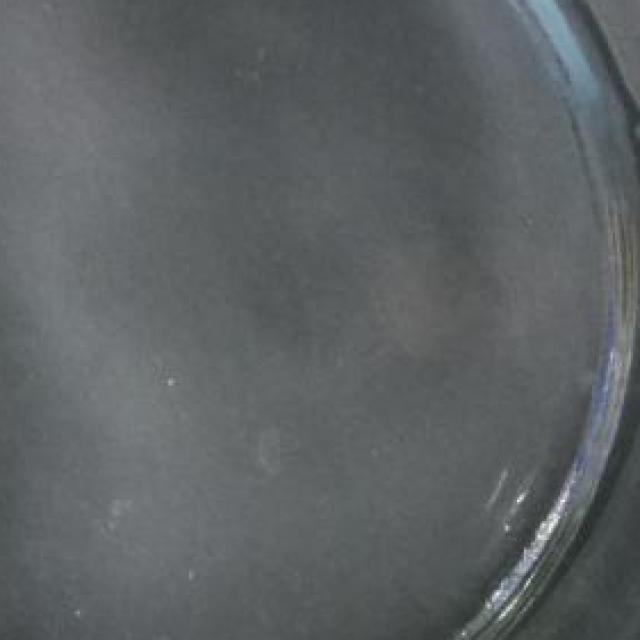Microplastic: (253, 424, 287, 478), (102, 495, 150, 528)
